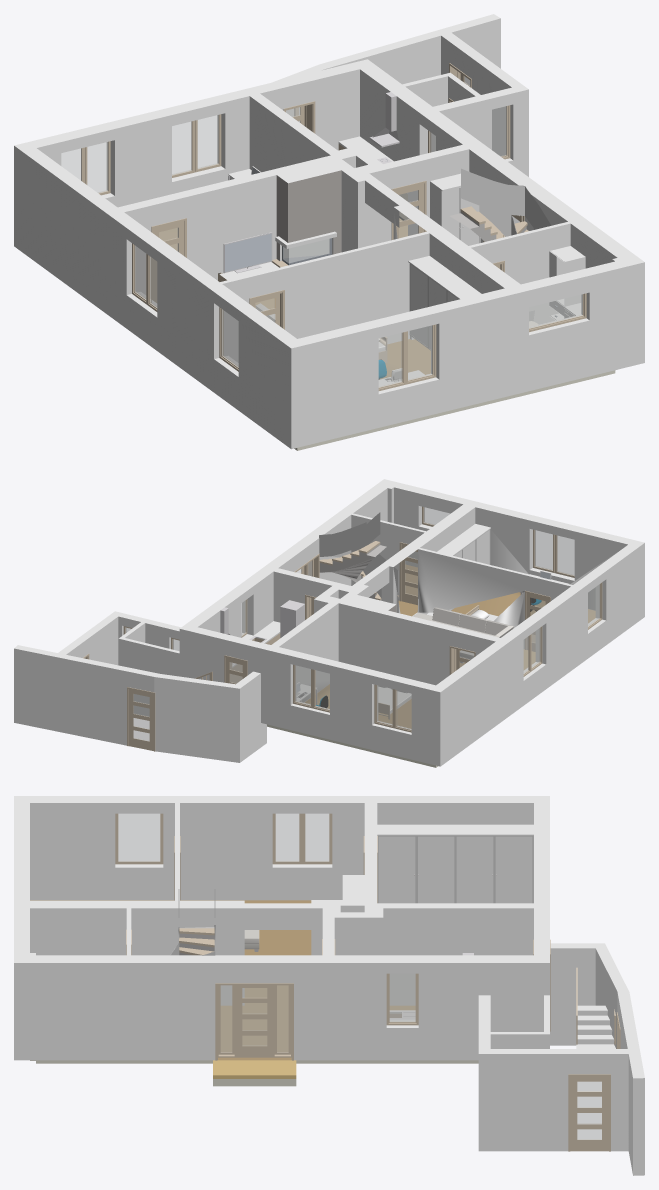
File: plan.glb
3 renders of one model, top to bottom at view 1: azimuth 30°, elevation 25°; view 2: azimuth 150°, elevation 25°; view 3: azimuth 270°, elevation 25°, orthographic. The views are drawn at different scales.
Parts seen in each view (by area): view 1: Mesh1 Group1 Model, Mesh49 Group1 Model, Mesh2 Group1 Model; view 2: Mesh1 Group1 Model, Mesh49 Group1 Model, Mesh2 Group1 Model; view 3: Mesh1 Group1 Model, Mesh46 Group1 Model.
Part boxes in pixels (bbox=[...]): Mesh1 Group1 Model: bbox=[14, 14, 644, 450]; Mesh49 Group1 Model: bbox=[461, 168, 551, 229]; Mesh2 Group1 Model: bbox=[479, 182, 516, 236]; Mesh1 Group1 Model: bbox=[14, 479, 644, 767]; Mesh49 Group1 Model: bbox=[319, 522, 398, 592]; Mesh2 Group1 Model: bbox=[356, 512, 381, 597]; Mesh1 Group1 Model: bbox=[14, 796, 644, 1175]; Mesh46 Group1 Model: bbox=[576, 1005, 615, 1048].
Bounding box in the file's own units: 585 × 181 × 624.
